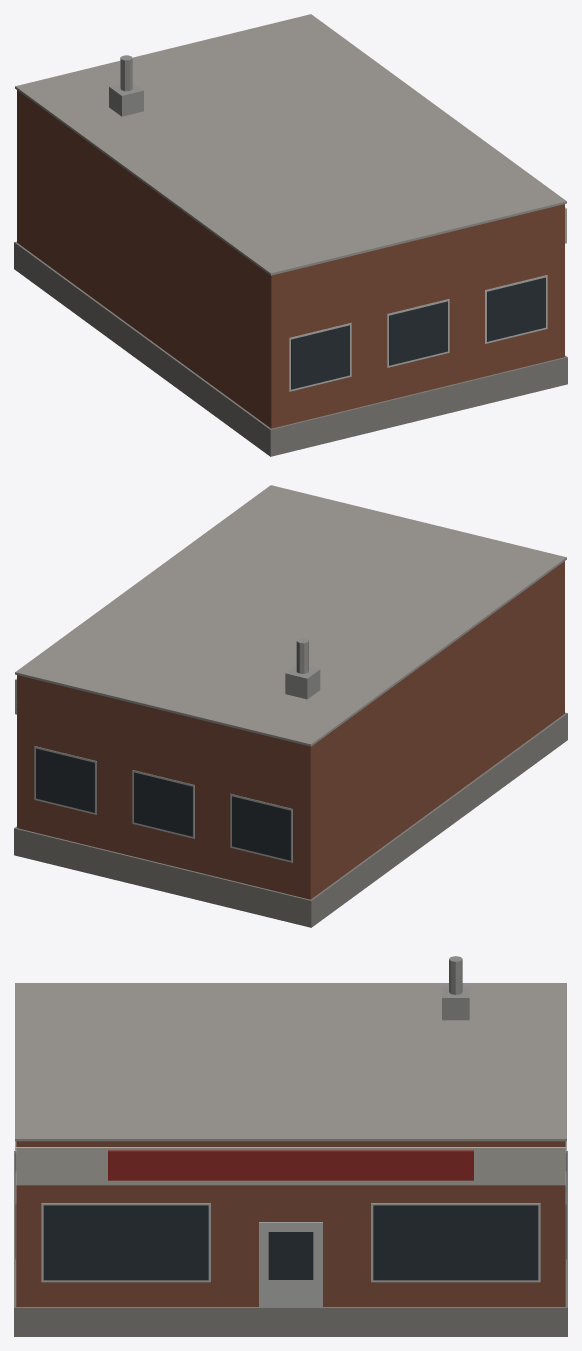
File: SM_Prop_cafe_building_8_LOD1.glb
3 views of the same model, one above another, from view 1: azimuth 30°, elevation 25°; view 2: azimuth 150°, elevation 25°; view 3: azimuth 270°, elevation 25° (orthographic). The views are drawn at different scales.
Visible parts, largest first — view 1: SM_Prop_cafe_building_8_LOD1; view 2: SM_Prop_cafe_building_8_LOD1; view 3: SM_Prop_cafe_building_8_LOD1.
Part boxes in pixels (left/top/right/bottom): SM_Prop_cafe_building_8_LOD1: left=14, top=14, right=567, bottom=456; SM_Prop_cafe_building_8_LOD1: left=14, top=485, right=567, bottom=927; SM_Prop_cafe_building_8_LOD1: left=14, top=956, right=567, bottom=1336.
Size of the model in its own units: 8.18 by 6.1 by 12.1.
